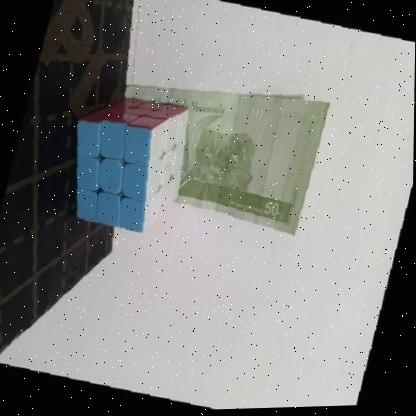fifty-back-vef: (94, 64, 330, 243)
